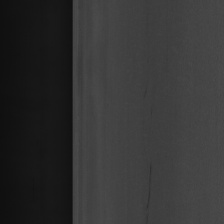inclusion: (140, 161, 158, 219)
